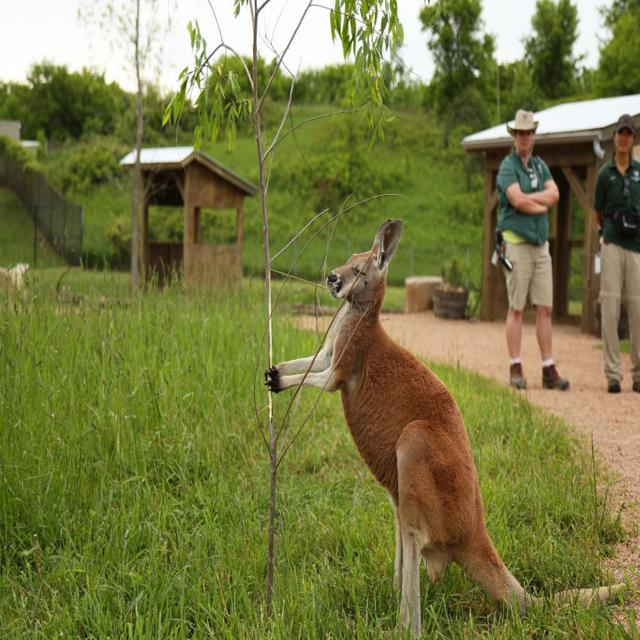kangaroo: (275, 212, 478, 624)
